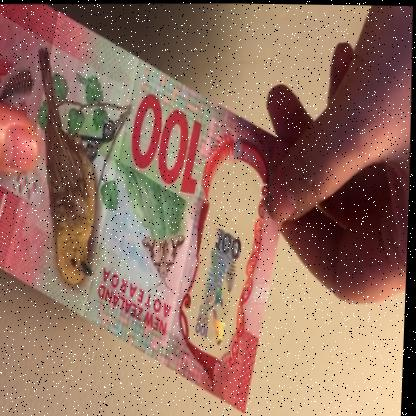100B: (191, 216, 246, 349)
